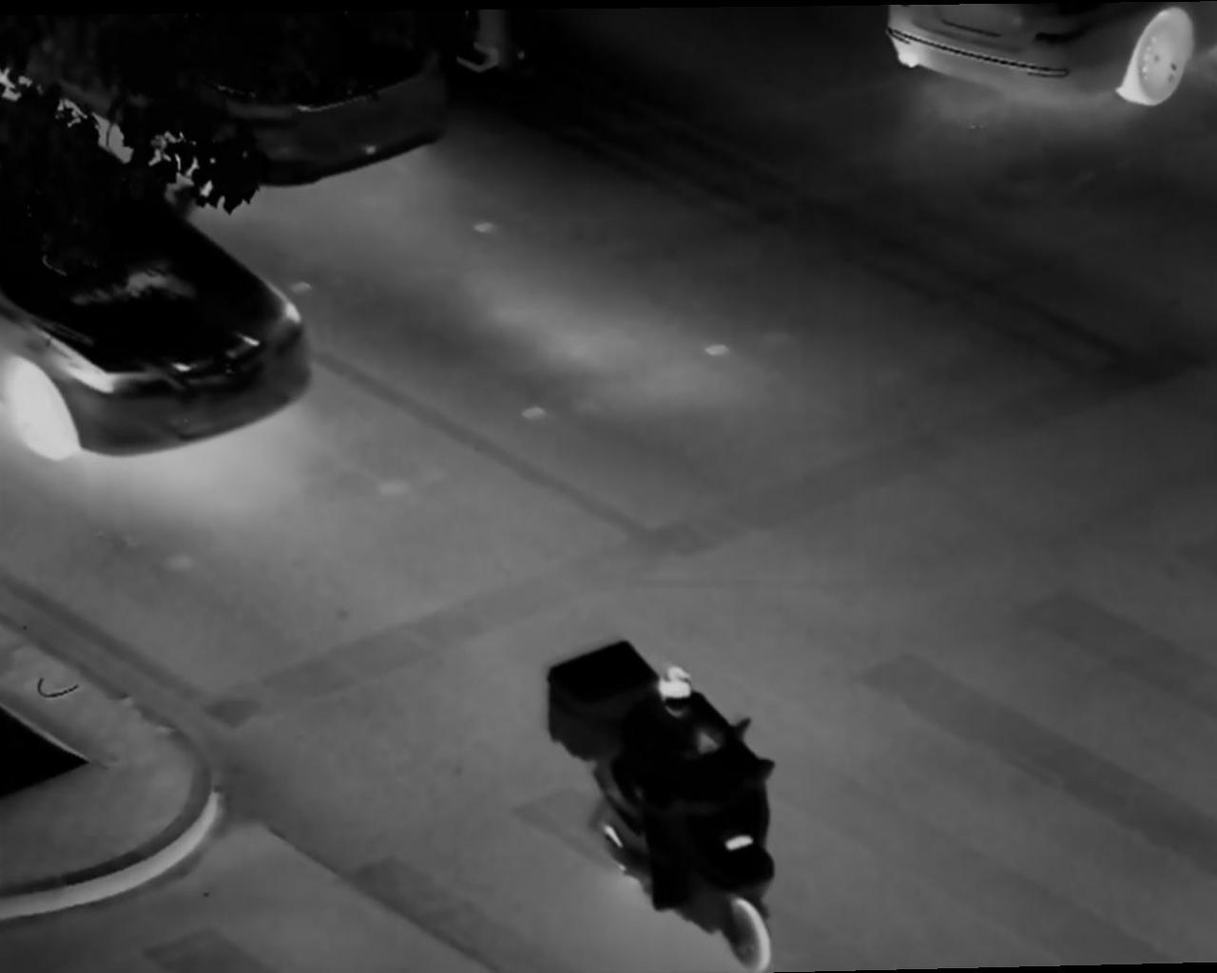person: (640, 659, 705, 877)
